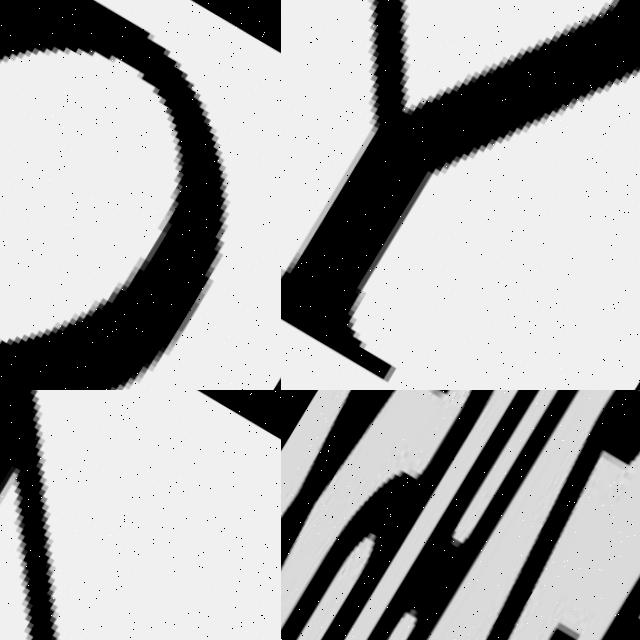6: (281, 390, 541, 640)
A: (0, 390, 281, 640)
D: (499, 458, 640, 640)
H: (281, 390, 606, 640)
N: (426, 419, 640, 640)
Q: (0, 0, 281, 390)
X: (281, 390, 475, 640)
Y: (281, 0, 640, 390)
Z: (348, 390, 640, 640)
